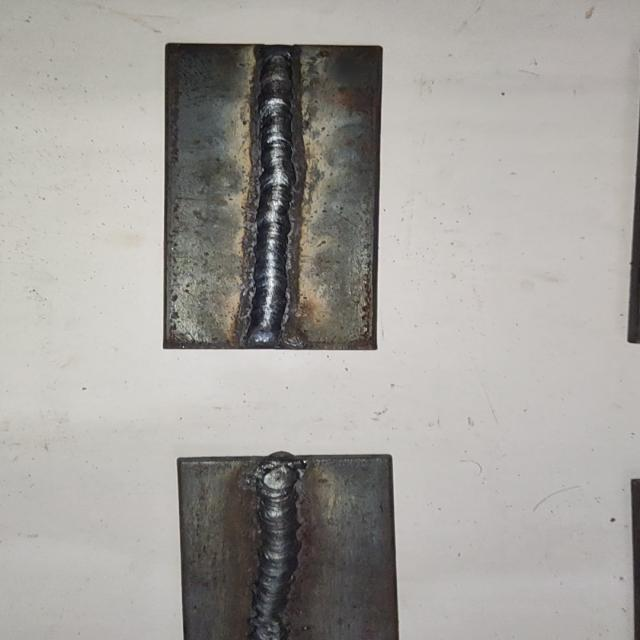Welding Line: (246, 51, 301, 344), (250, 460, 302, 639)
Workpiece: (153, 40, 391, 355), (174, 449, 408, 640)
